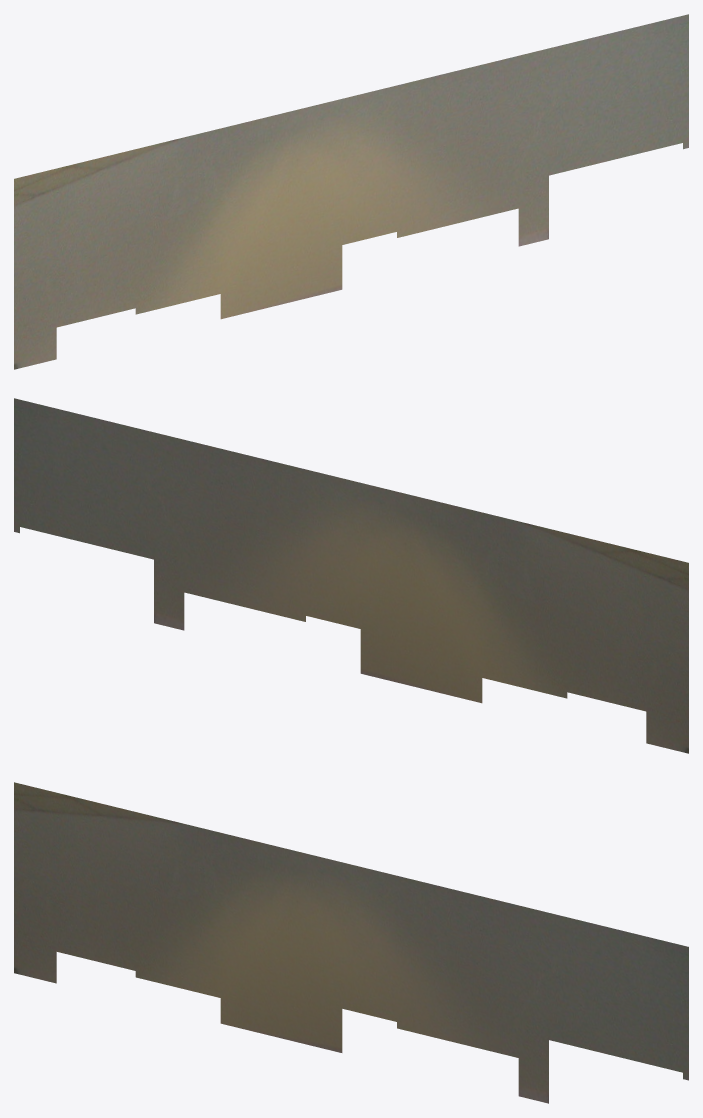
Rendered from region.obj.
The picture shows the model from 3 angles, top to bottom: view 1: azimuth 30°, elevation 25°; view 2: azimuth 150°, elevation 25°; view 3: azimuth 330°, elevation 25°; orthographic projection.
Visible parts, largest first — view 1: owned_material_region; view 2: owned_material_region; view 3: owned_material_region.
Boxes of the visible parts, x1,y1,x2,y2 form: owned_material_region: [14, 14, 688, 369]; owned_material_region: [14, 398, 688, 753]; owned_material_region: [14, 782, 688, 1103].
Size of the model in its own units: 0.9867 by 0.2667 by 0.
1 material, 1 textured.
